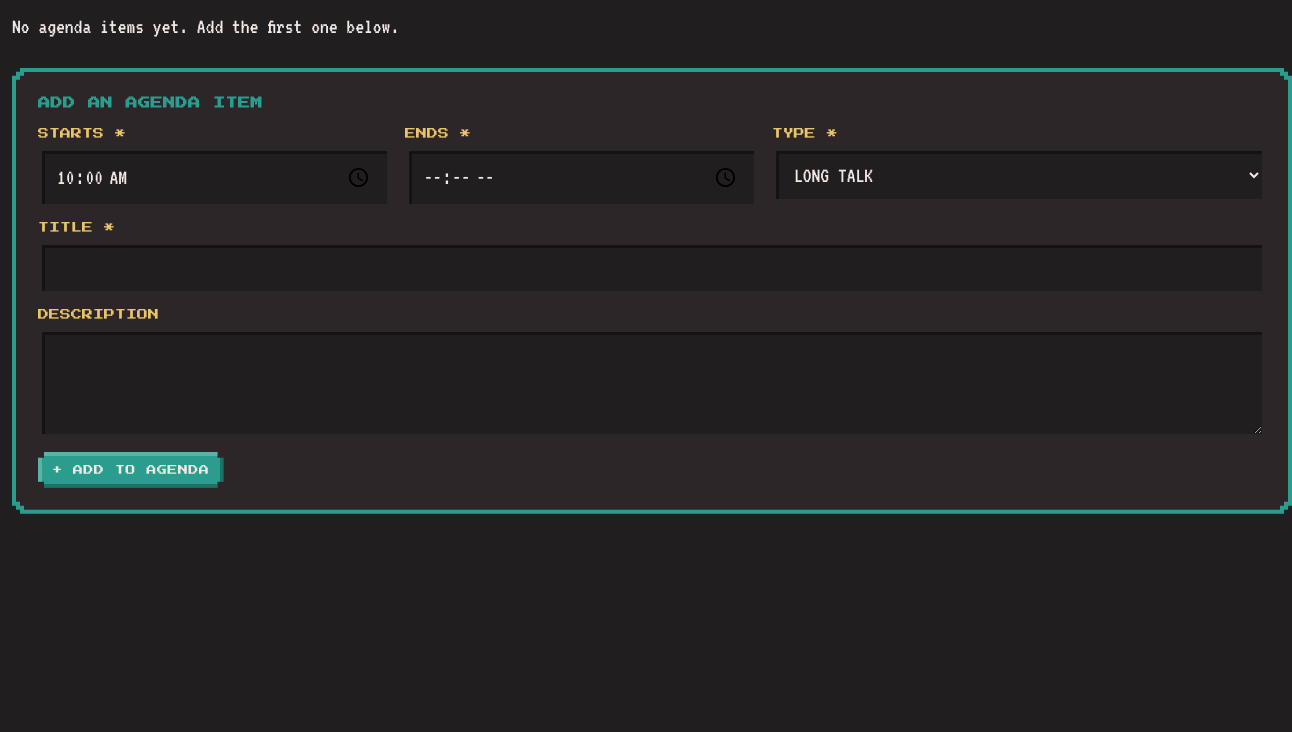
it: AgendaEditor › validates before adding
The width and height of the screenshot is (1292, 732).
Click the button "+ ADD TO AGENDA" at (131, 470), box left=38, top=452, right=224, bottom=488
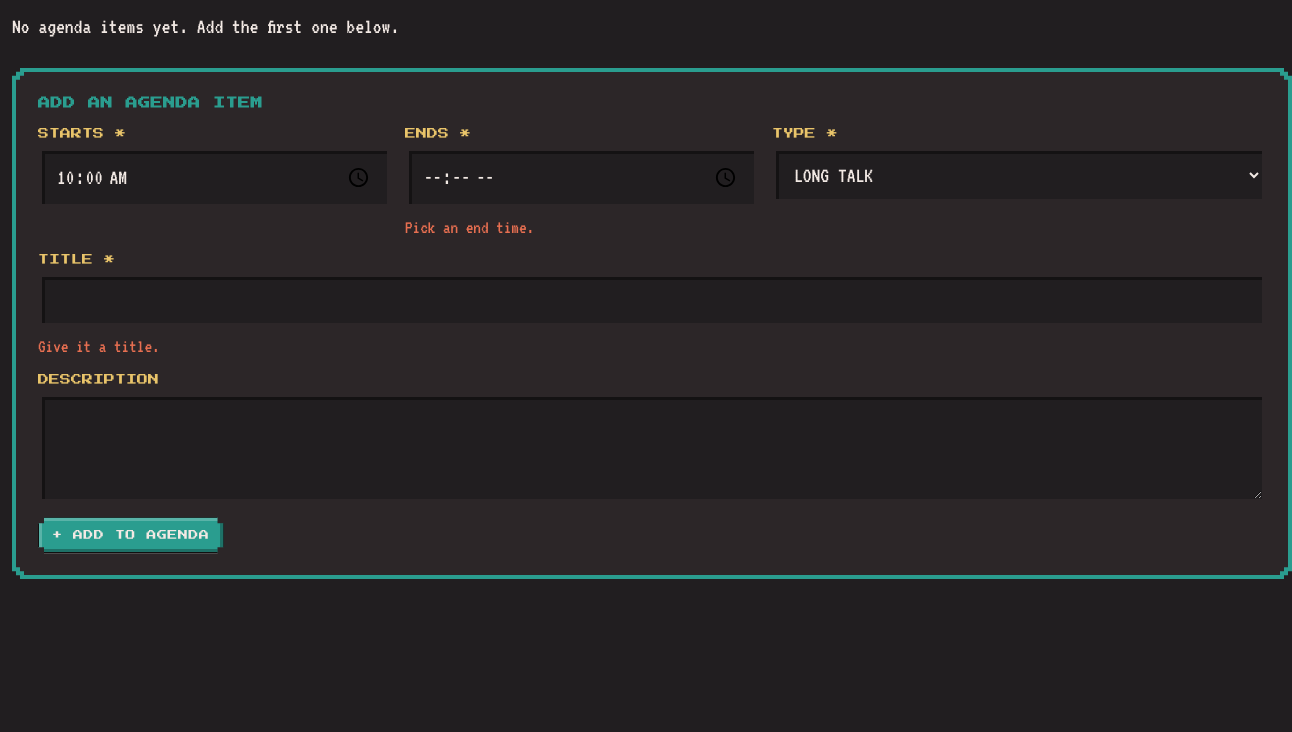
Expected: the text "Give it a title." is shown, left=38, top=338, right=160, bottom=356
